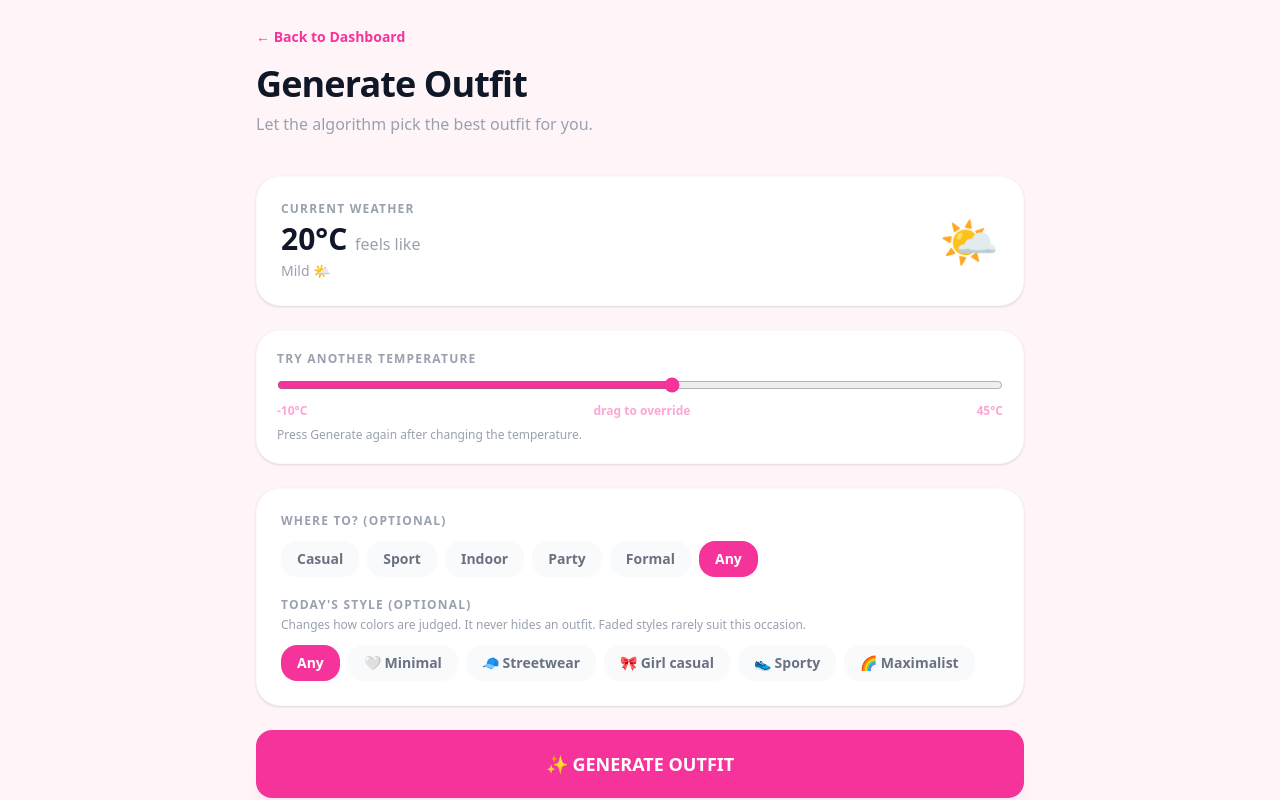
Scenario: Suggest page: add to calendar › closes without saving
The width and height of the screenshot is (1280, 800).
Click the button "✨ GENERATE OUTFIT" at (640, 764), box [256,730,1024,798]
(page scrolled)
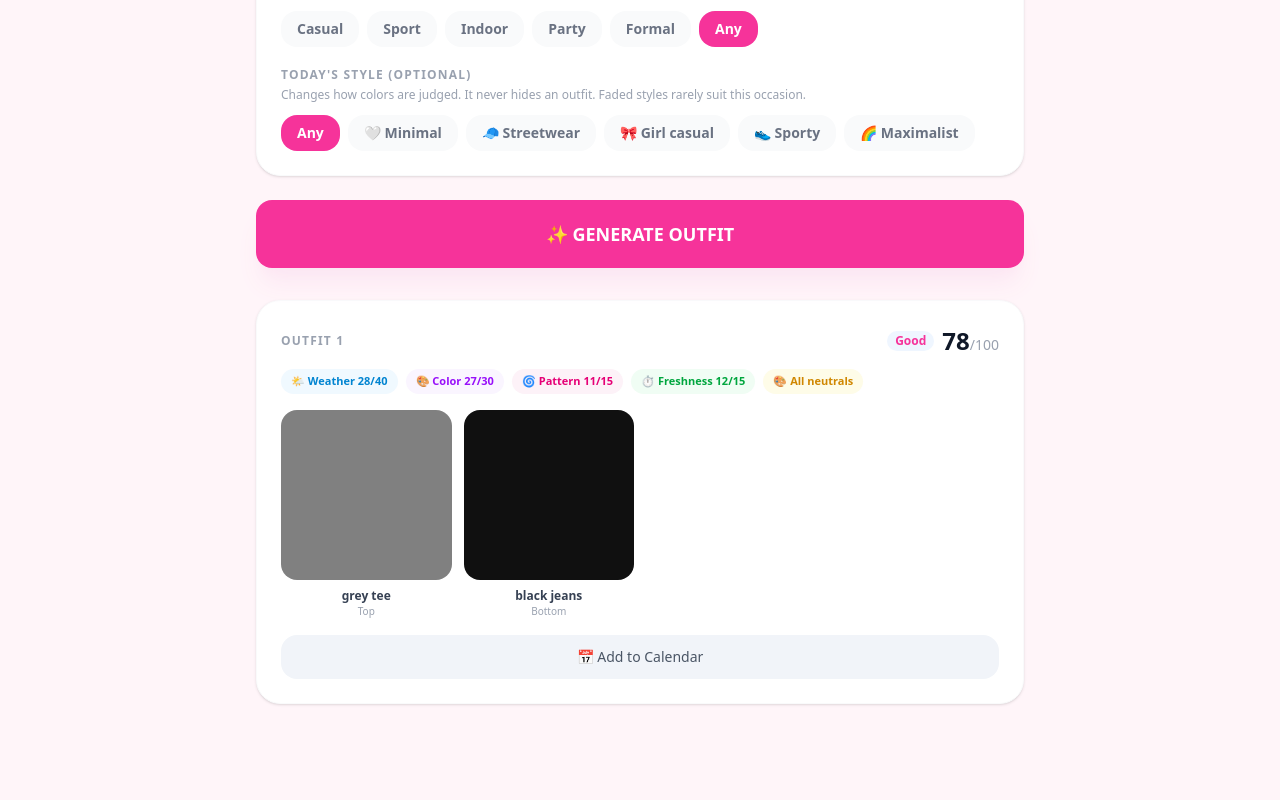
Expected: the text "Outfit 1" is shown, [281,333,344,349]
Expected: the button "📅 Add to Calendar" is shown
Click the button "📅 Add to Calendar" at (640, 657), box [281,635,999,679]
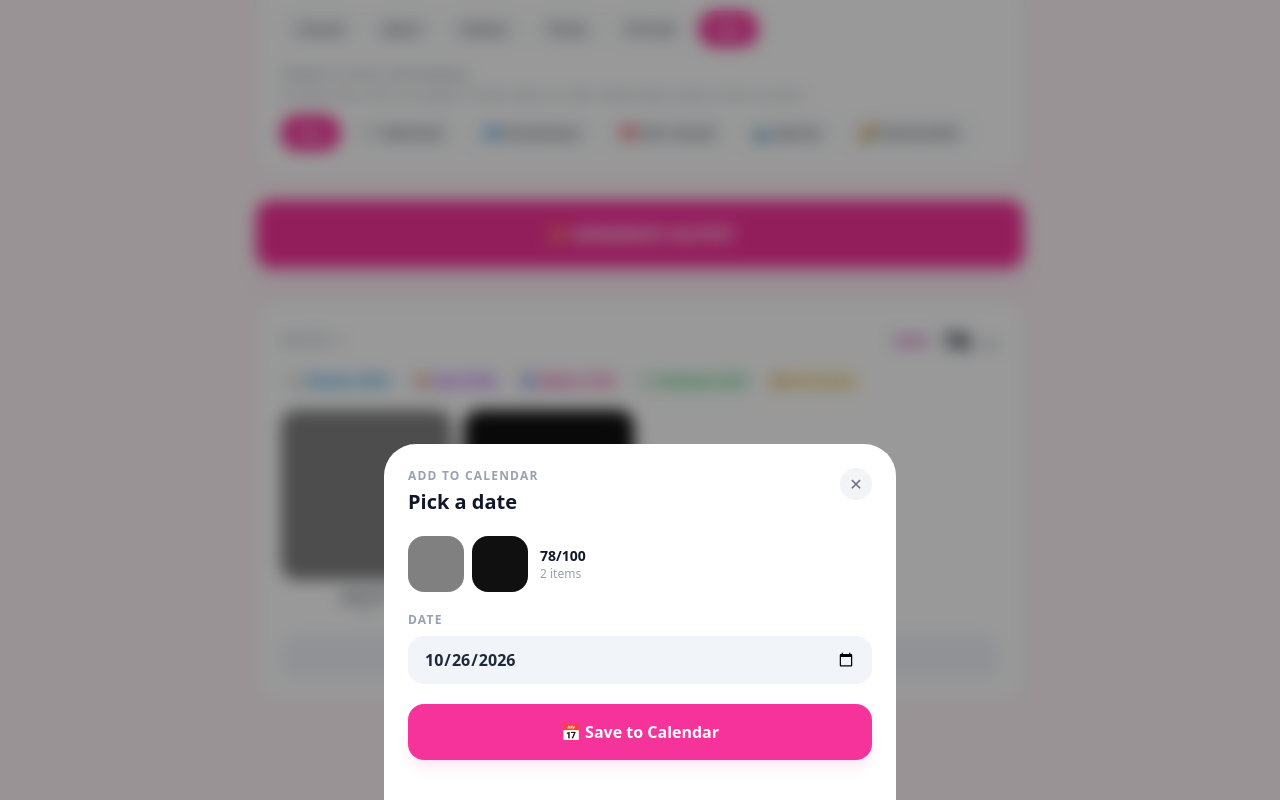
Expected: the text "Pick a date" is shown, [408,488,517,515]
Expected: the button "✕" is shown
Click the button "✕" at (856, 484), box [840,468,872,500]
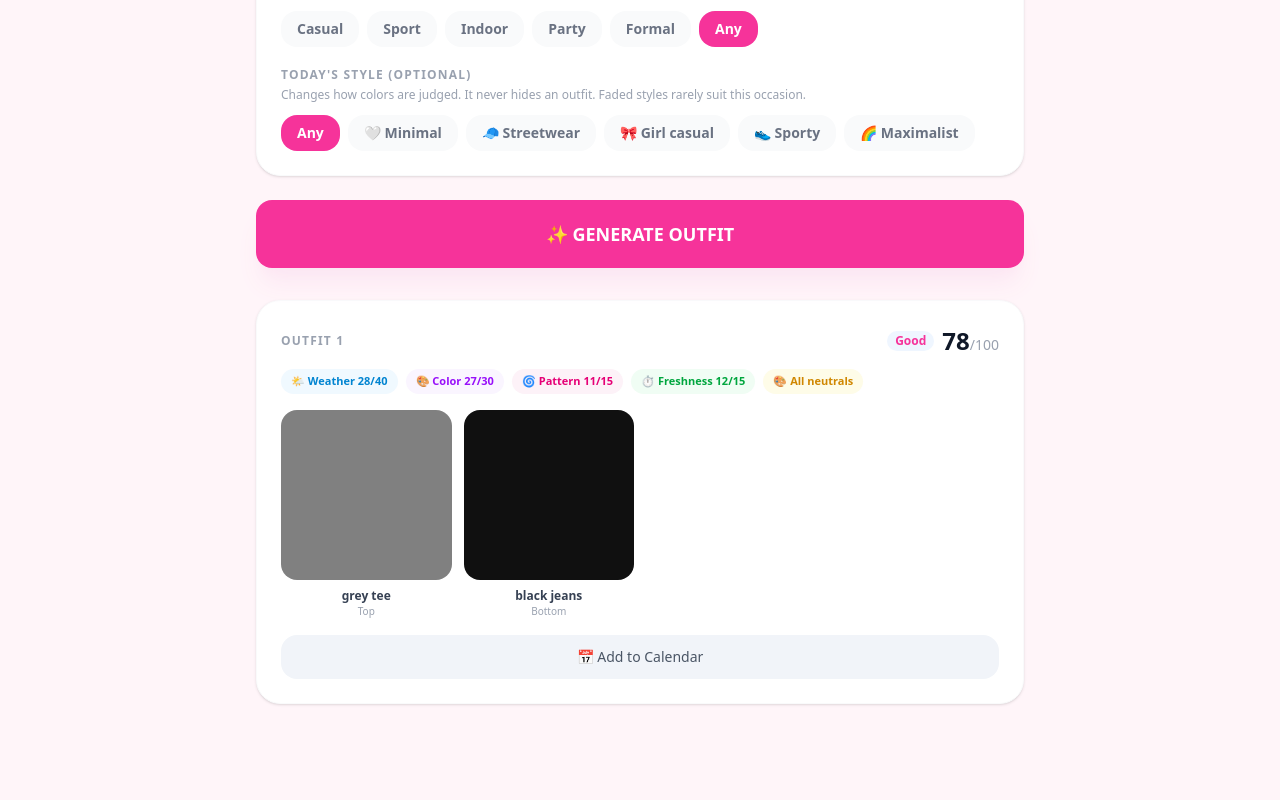
Expected: the dialog is gone
